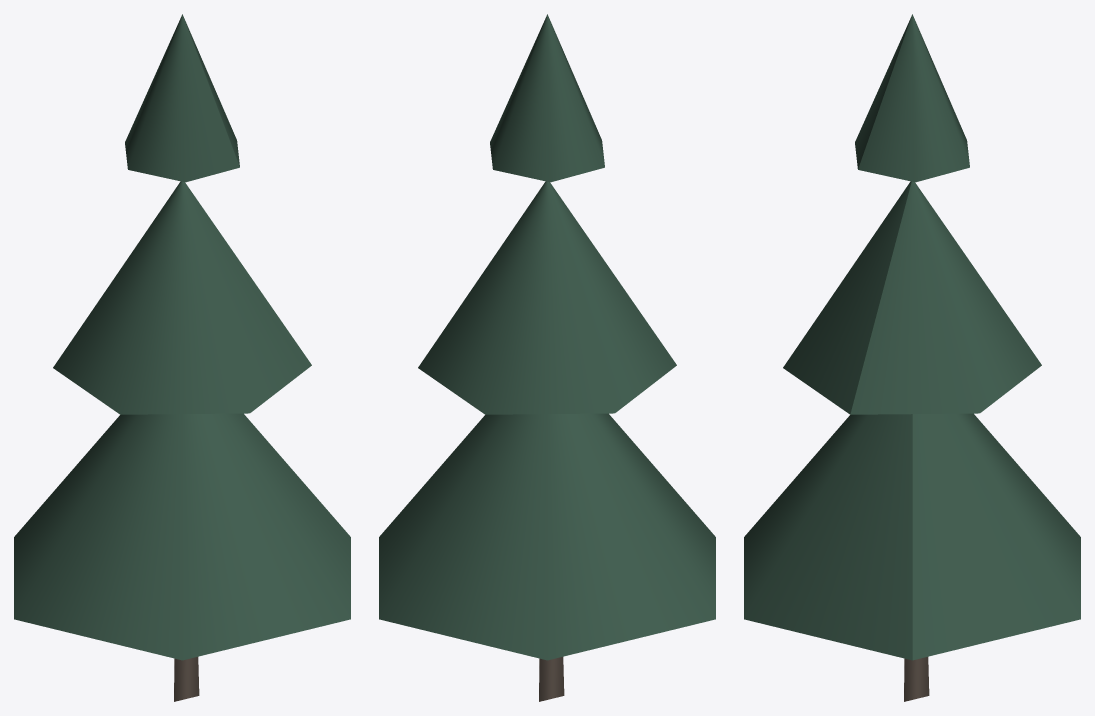
Rendered from pine_far.glb.
3 renders of one model, left to right at view 1: azimuth 30°, elevation 25°; view 2: azimuth 150°, elevation 25°; view 3: azimuth 270°, elevation 25°, orthographic.
Visible parts, largest first — view 1: PineFar; view 2: PineFar; view 3: PineFar.
Boxes of the visible parts, bbox=[...] form: PineFar: bbox=[14, 14, 350, 701]; PineFar: bbox=[379, 14, 715, 701]; PineFar: bbox=[744, 14, 1080, 701].
Size of the model in its own units: 6 by 11.6 by 5.2.
